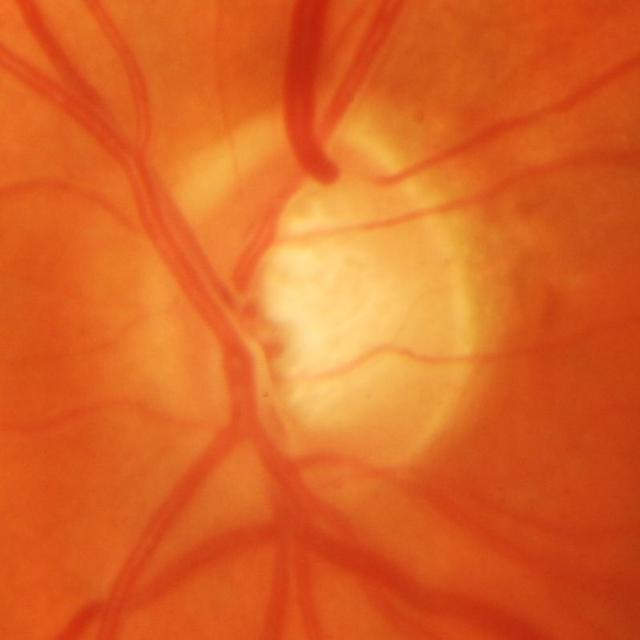OC: (264, 215, 381, 406)
OD: (138, 106, 477, 490)
